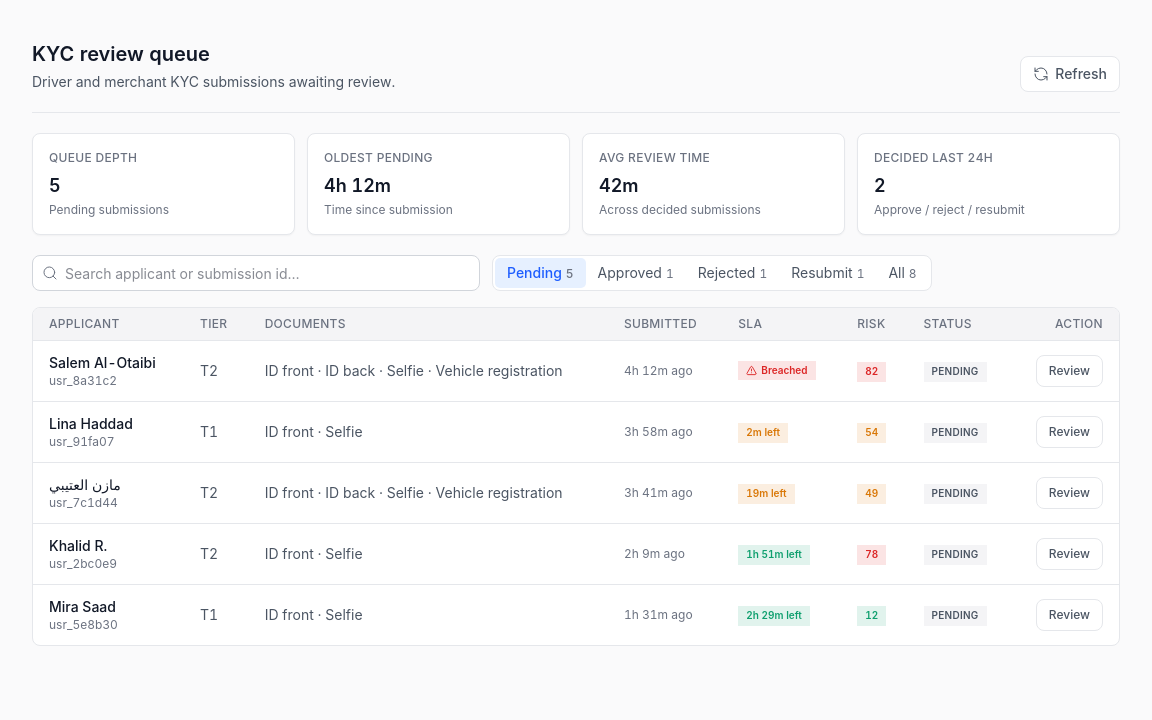
Test: <KycQueuePage /> › renders a read-only decision summary for decided submissions
Click the tab "Approved1": (636,273) [586, 258, 686, 288]
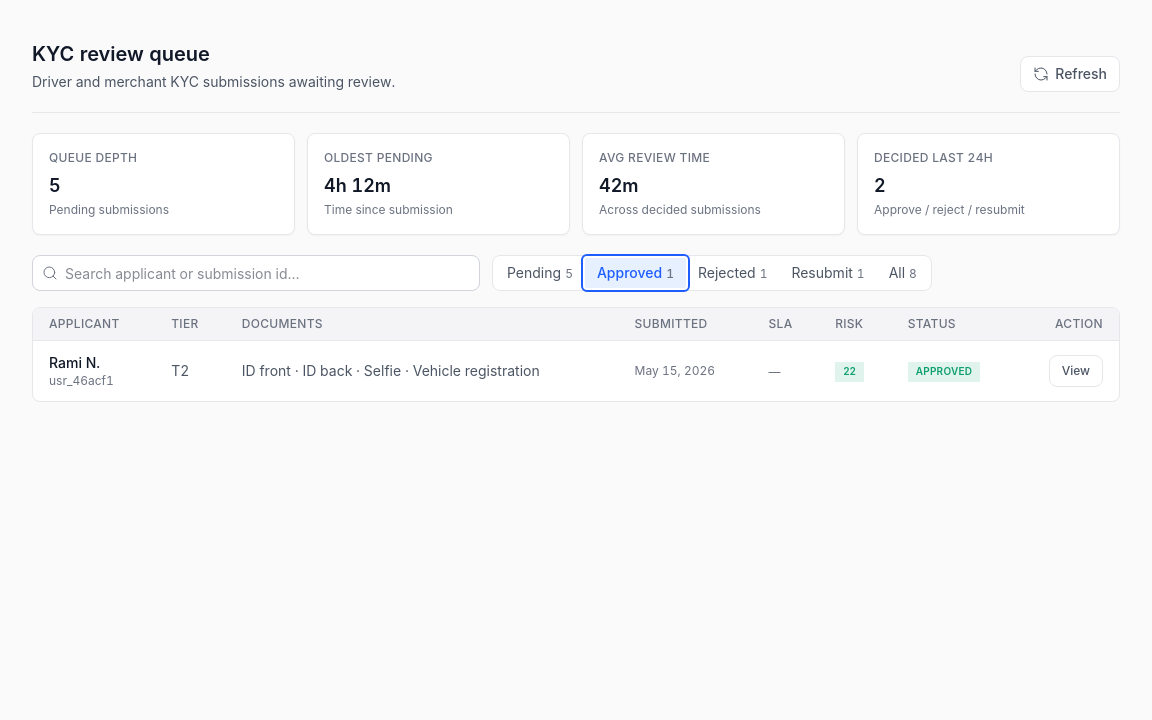
Click the button named "review rami n.": (1076,371) [1049, 355, 1103, 387]
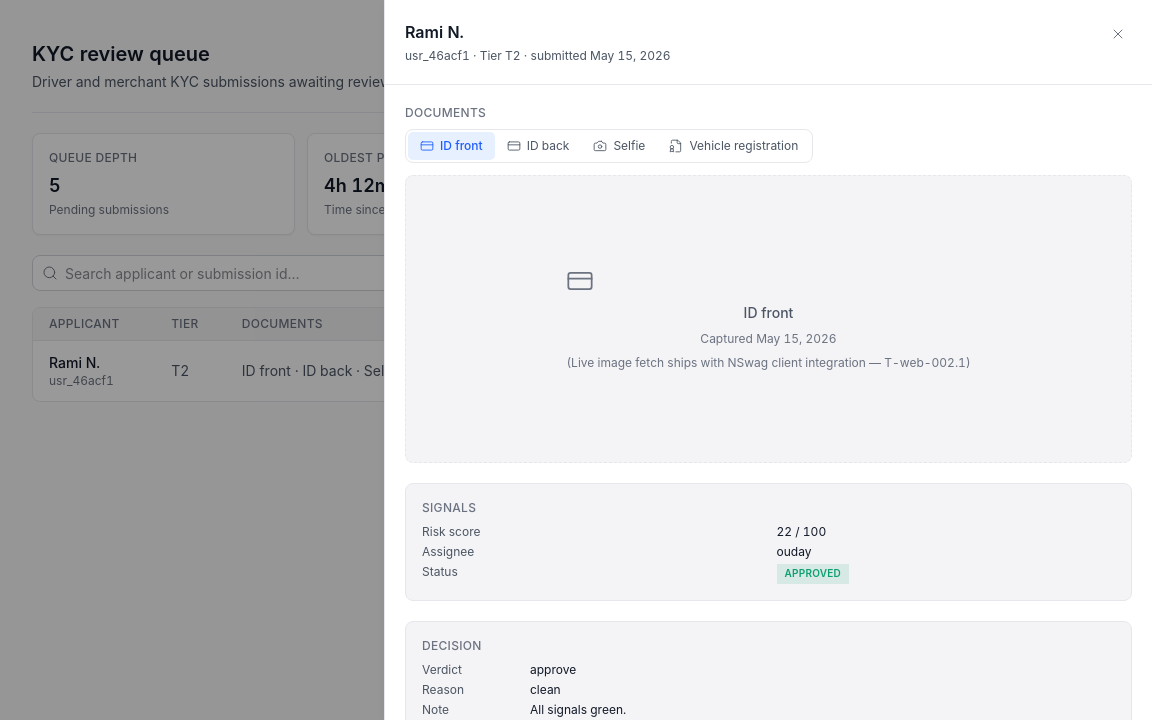
Result: the text "approve" is shown at [530, 662, 576, 678]
Result: the text "clean" is shown at [530, 682, 561, 698]
